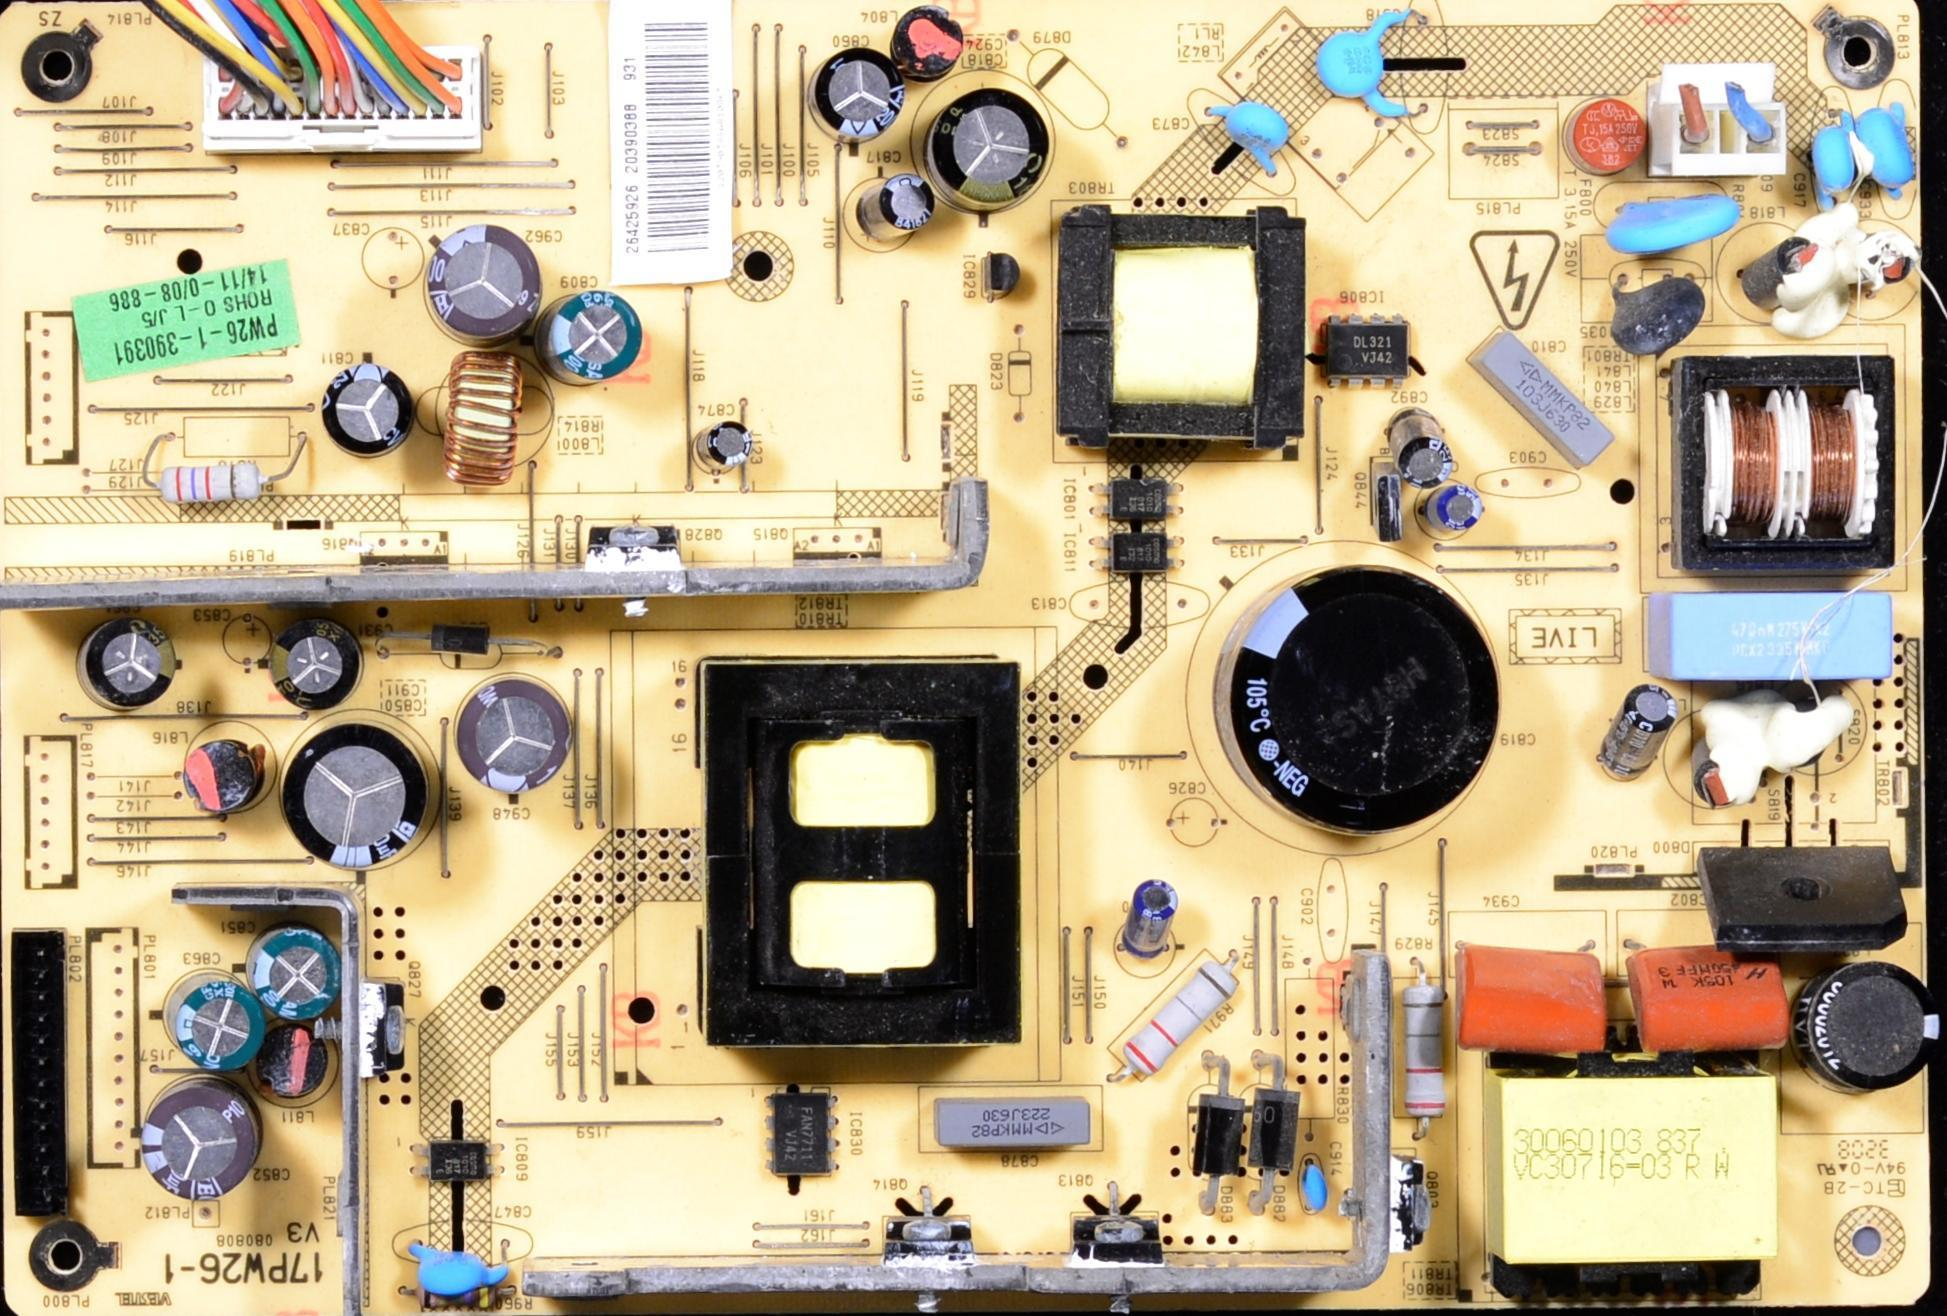Capacitor: (1190, 578, 1515, 832), (1628, 927, 1789, 1065), (1457, 930, 1610, 1062), (1803, 969, 1943, 1107), (286, 732, 432, 861), (923, 84, 1057, 216), (138, 1082, 268, 1216), (1475, 333, 1597, 465), (448, 682, 589, 795), (428, 227, 545, 353), (798, 52, 917, 162), (538, 267, 645, 388), (1596, 254, 1700, 363), (1333, 13, 1445, 110), (935, 1093, 1091, 1160), (248, 924, 342, 1024), (416, 1227, 517, 1316), (328, 362, 412, 465), (78, 622, 183, 705), (1598, 682, 1683, 783), (268, 632, 365, 717), (171, 979, 265, 1066), (1749, 225, 1836, 305), (1386, 392, 1463, 483), (1199, 96, 1288, 171), (1128, 877, 1194, 966), (871, 172, 946, 245), (1865, 108, 1921, 203), (1804, 121, 1860, 210), (1423, 474, 1486, 543), (1298, 1167, 1351, 1236), (688, 414, 750, 471)
Connector: (8, 933, 96, 1208)
IC: (757, 1087, 864, 1191), (1317, 311, 1415, 389), (418, 1133, 506, 1192), (1087, 527, 1189, 574), (1092, 482, 1191, 525), (980, 251, 1017, 303)
Resistor: (1118, 968, 1232, 1072), (145, 445, 287, 522), (1397, 972, 1461, 1124)
Transistor: (584, 520, 699, 565), (353, 527, 454, 566), (785, 526, 880, 564), (1368, 460, 1406, 542)
